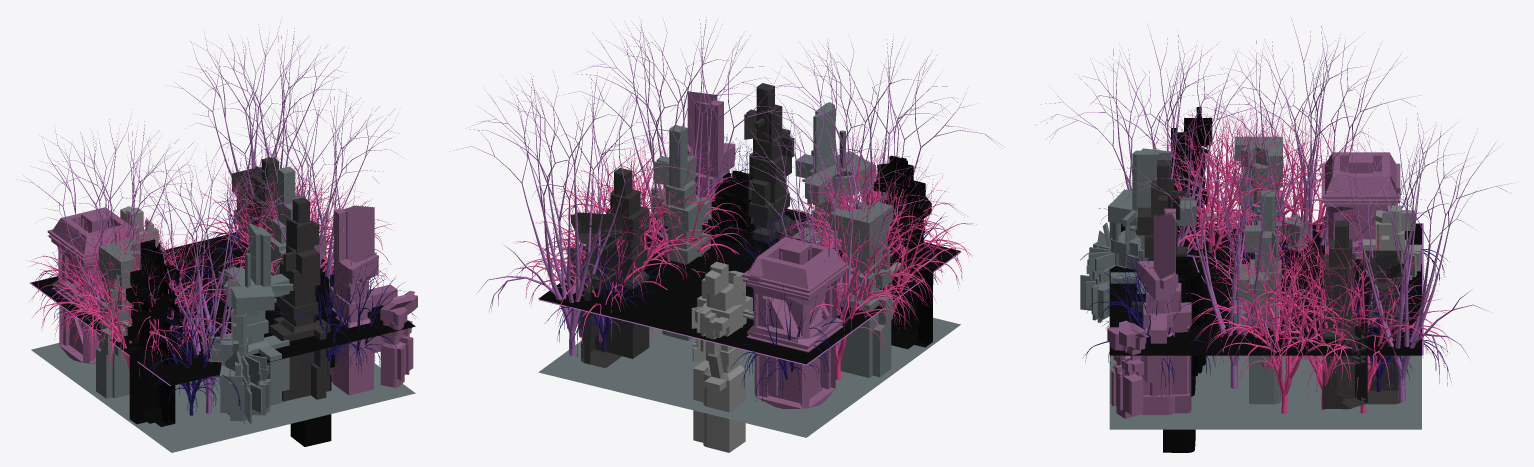
Rendered from Nivel_2.glb.
3 views of the same model, side by side, from view 1: azimuth 30°, elevation 25°; view 2: azimuth 150°, elevation 25°; view 3: azimuth 270°, elevation 25° (orthographic). The views are drawn at different scales.
Visible parts, largest first — view 1: Cubo.011, tree.001, Plano.001, tree, Plano, tree.003, tree.002; view 2: Cubo.011, tree.001, Plano.001, Plano, tree, tree.002, tree.003, Plano.003; view 3: Cubo.011, tree.001, tree.002, Plano, Plano.001, tree, tree.003.
Part boxes in pixels (box(x1,y1,x2,y2)): Cubo.011: box(47, 157, 417, 446); tree.001: box(16, 20, 402, 413); Plano.001: box(31, 343, 415, 452); tree: box(26, 206, 238, 377); Plano: box(31, 234, 415, 385); tree.003: box(32, 185, 415, 415); tree.002: box(190, 152, 391, 305); Cubo.011: box(567, 83, 932, 452); tree.001: box(450, 14, 1003, 361); Plano.001: box(538, 317, 960, 437); Plano: box(538, 208, 960, 364); tree: box(750, 132, 976, 379); tree.002: box(512, 133, 748, 349); tree.003: box(544, 134, 958, 401); Plano.003: box(538, 252, 961, 365); Cubo.011: box(1080, 107, 1421, 452); tree.001: box(1035, 18, 1518, 402); tree.002: box(1186, 203, 1452, 413); Plano: box(1109, 223, 1421, 355); Plano.001: box(1109, 355, 1421, 429); tree: box(1131, 102, 1377, 269); tree.003: box(1080, 163, 1449, 391).
Size of the model in its own units: 15.25 by 12.4 by 15.21.
